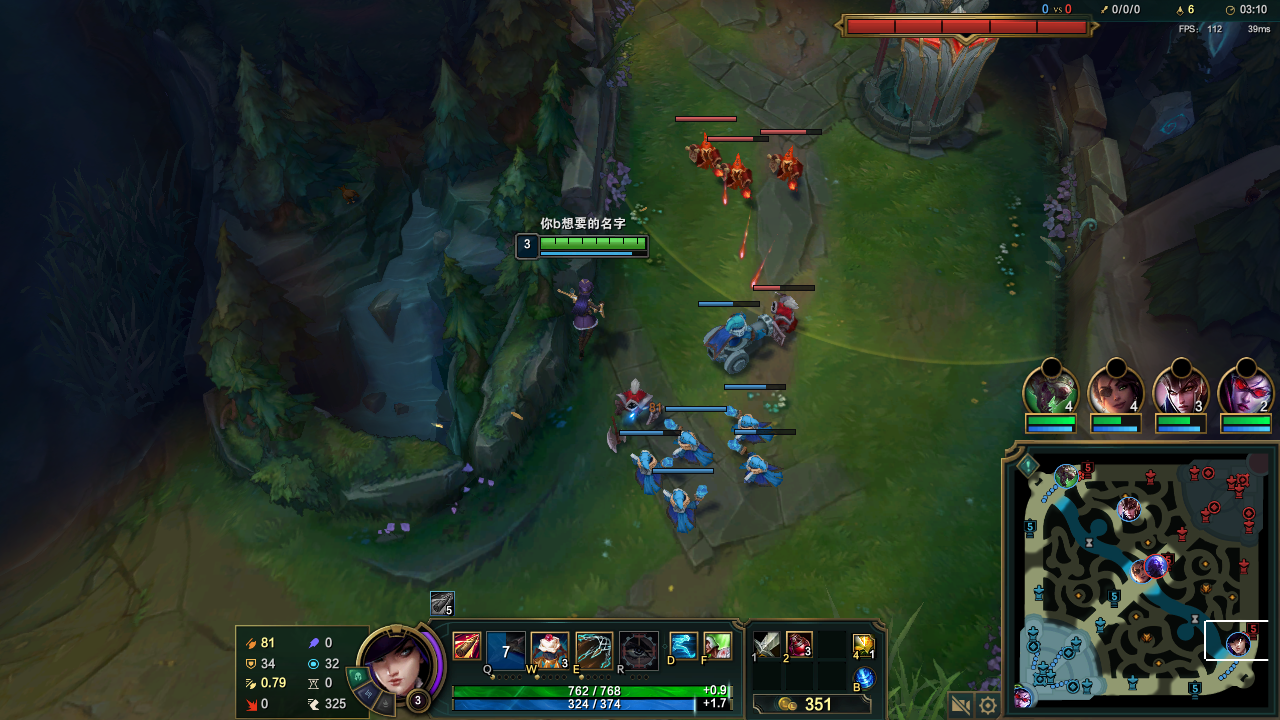DFFYT: (841, 17, 1006, 151)
DFXB: (765, 293, 801, 340), (725, 155, 756, 191), (770, 148, 804, 180), (692, 137, 719, 167)
WFXB: (698, 314, 770, 374), (730, 414, 775, 446), (741, 459, 784, 487), (636, 450, 667, 488), (677, 430, 706, 465), (667, 492, 695, 526)
Yita: (1185, 674, 1203, 698)
